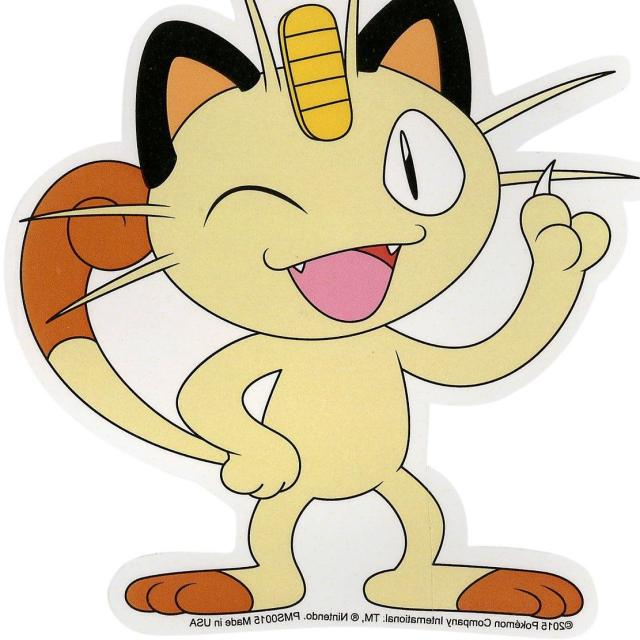Meowth: (129, 0, 505, 618)
